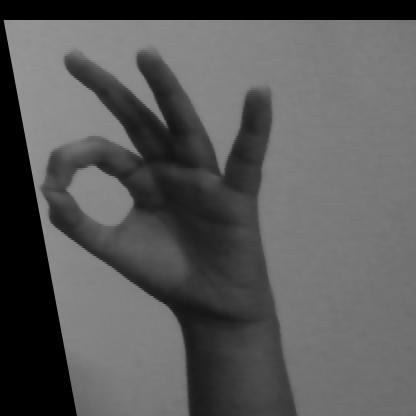ok: (6, 38, 318, 318)
